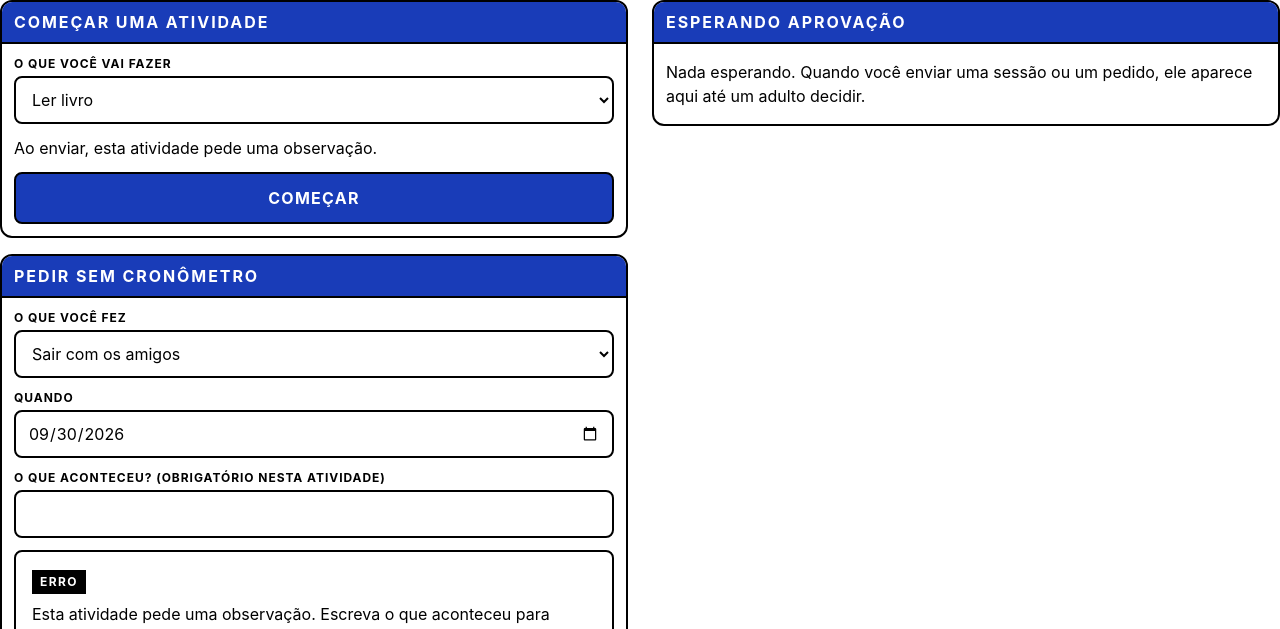
Test case: the stopwatch (#44) › says it on the picker, before Começar
Select "Ler quadrinhos ou HQ" in the dropdown labelled "O que você vai fazer" at (314, 100), box [14,76,614,124]
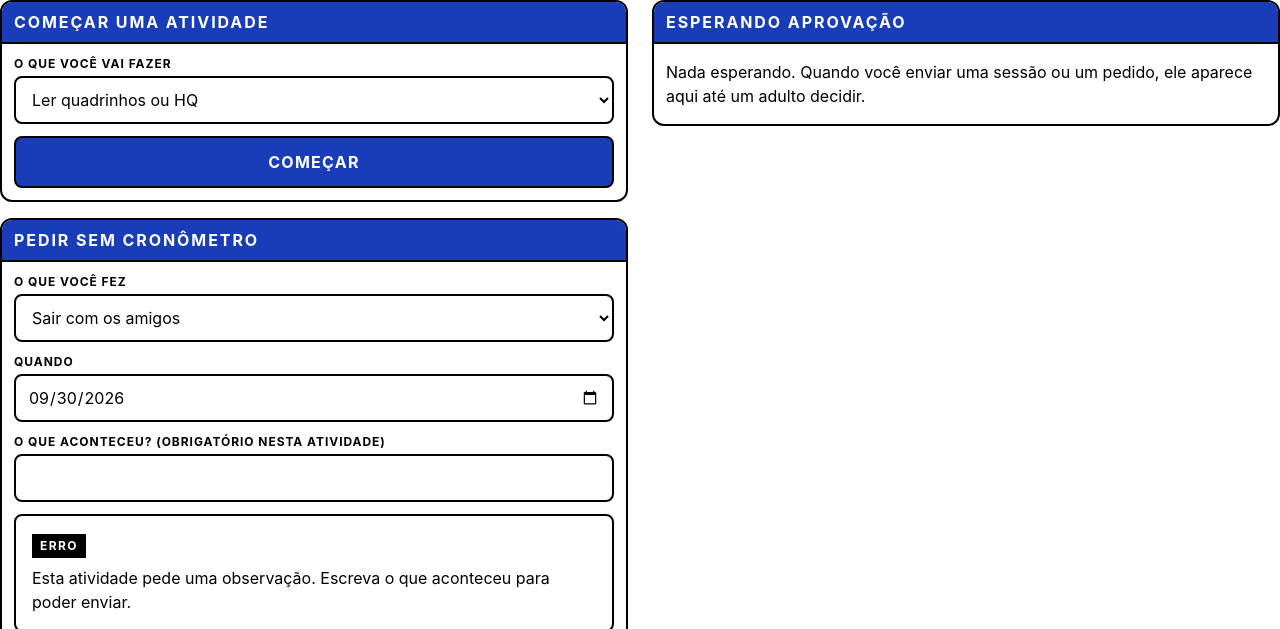
Expected: the text "Ao enviar, esta atividade pede uma observação." is gone
